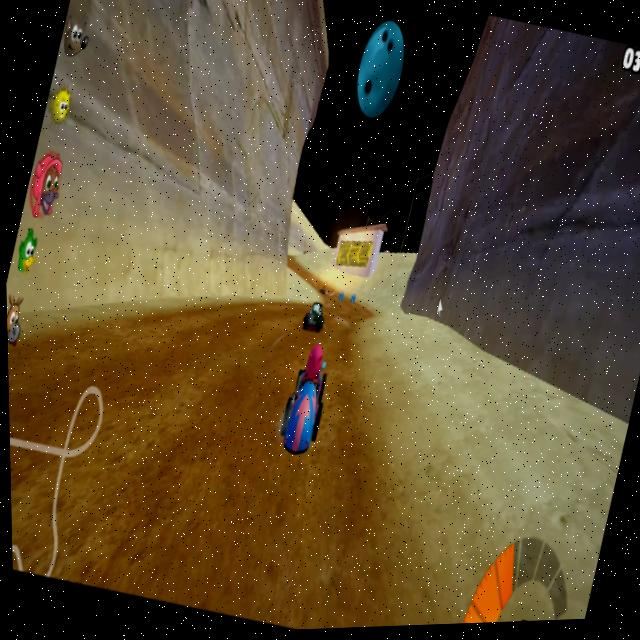bonus: (335, 287, 346, 303), (347, 293, 356, 305)
enemy_kart: (298, 296, 333, 342)
off_track: (336, 292, 551, 580)
player_kart: (263, 332, 342, 479)
